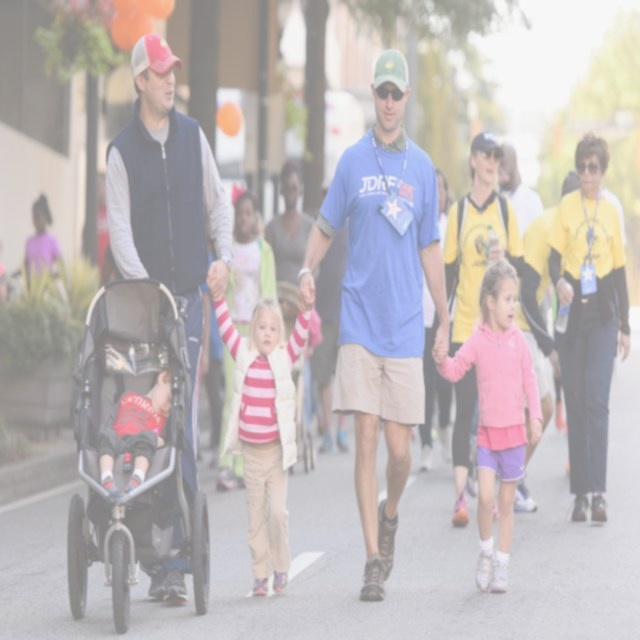pessoa: (294, 43, 454, 603), (101, 28, 236, 610), (428, 126, 530, 538), (431, 255, 546, 598), (544, 128, 634, 531), (206, 268, 314, 600), (560, 131, 630, 482), (512, 168, 582, 514), (212, 186, 280, 495), (263, 158, 322, 425), (416, 167, 457, 473), (312, 180, 350, 456), (96, 366, 173, 496), (496, 140, 544, 239), (22, 192, 64, 293), (198, 204, 236, 305), (253, 204, 266, 240), (446, 190, 455, 218)
